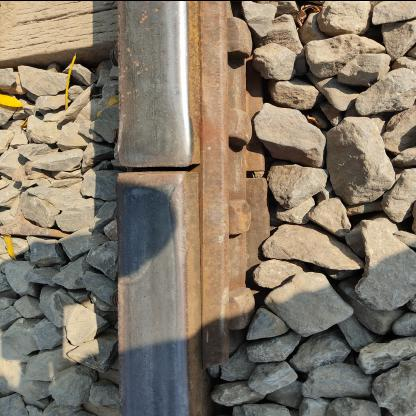Non Defective 3: (146, 1, 310, 390)
